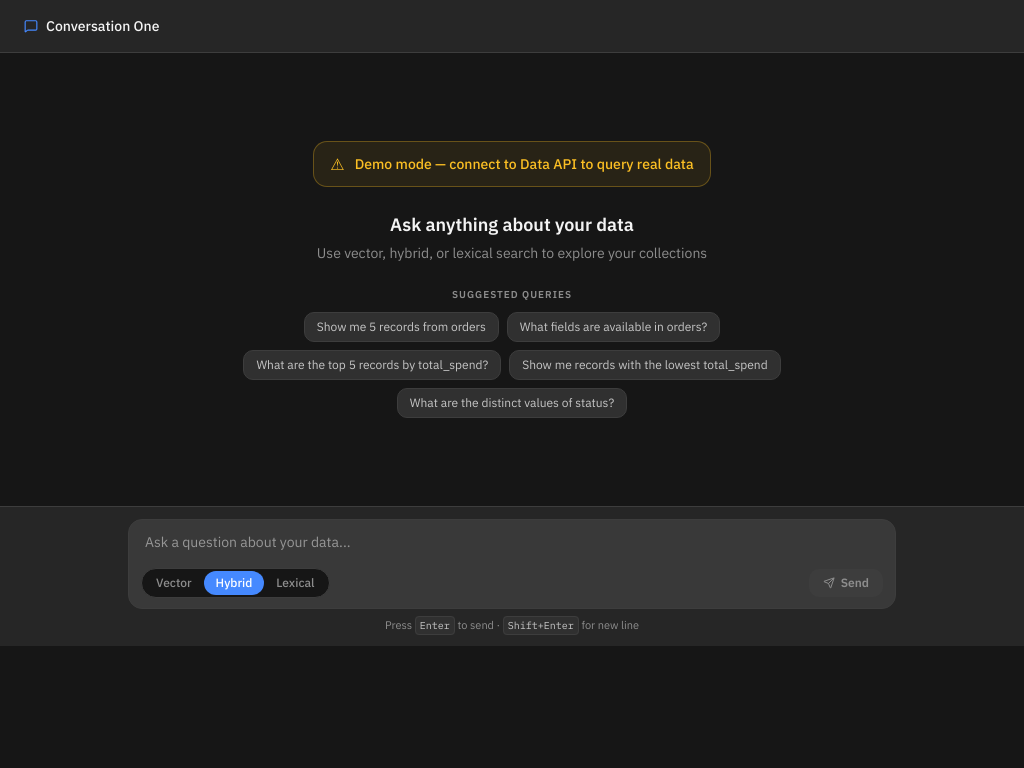
Test case: ChatArea › shows and dismisses the chat error banner when a send fails
Type "Find active orders" into the text box with test id "chat-input" at (512, 542), box [129,520,895,564]
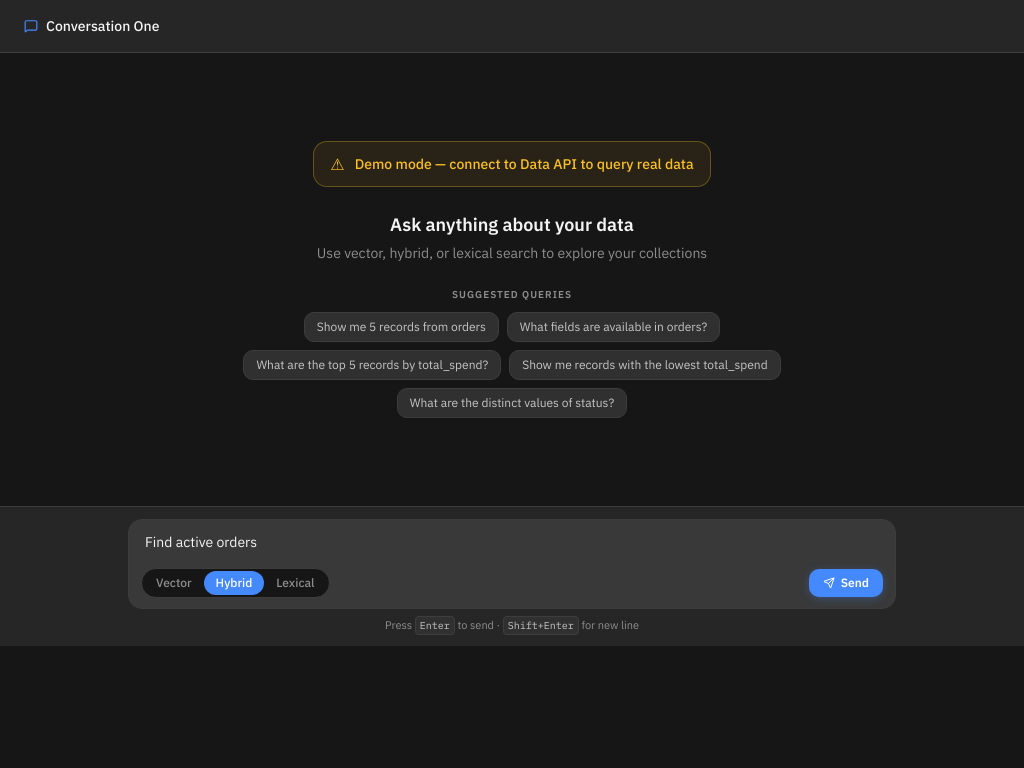
Click the button with test id "chat-send-button" at (846, 583), box [809,569,883,597]
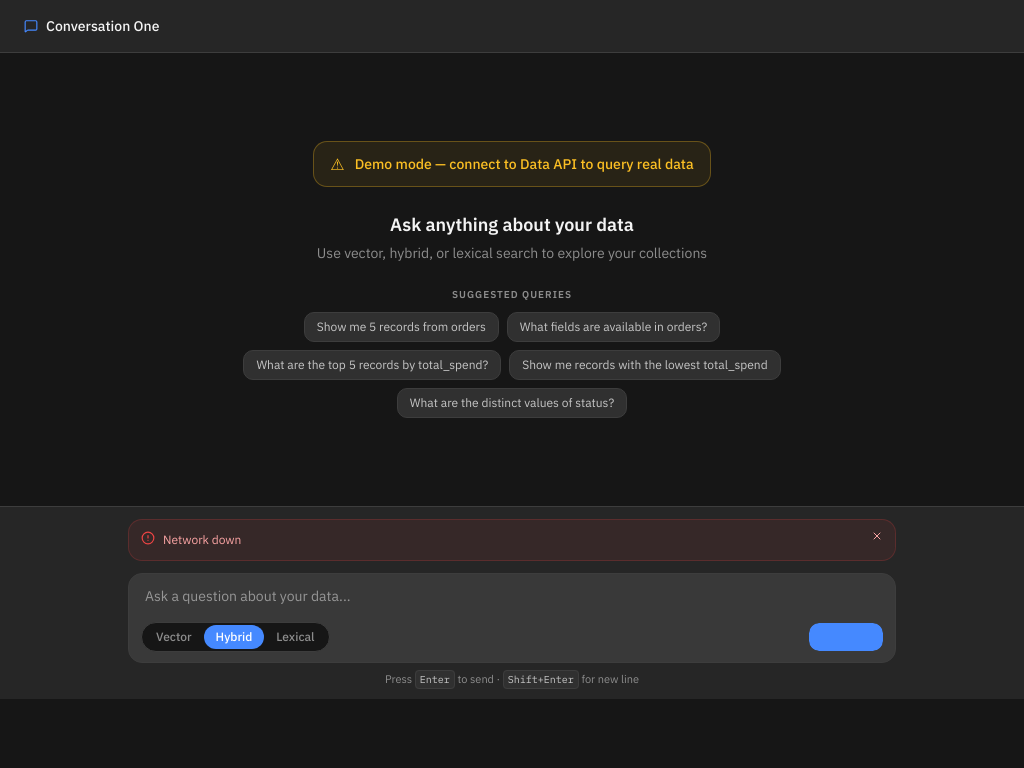
Check: the element with test id "chat-error-banner" reads "Network down", box [163,532,241,547]
Click the button named "Dismiss chat error" at (877, 536), box [871,530,883,542]
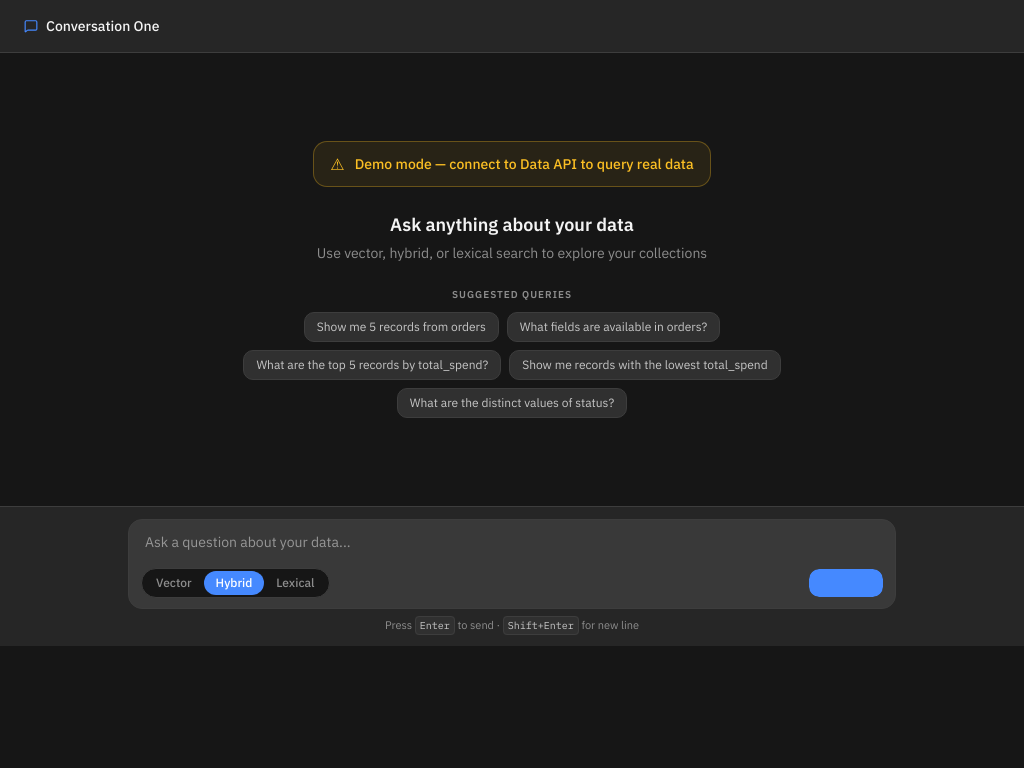
Check: the element with test id "chat-error-banner" is gone
